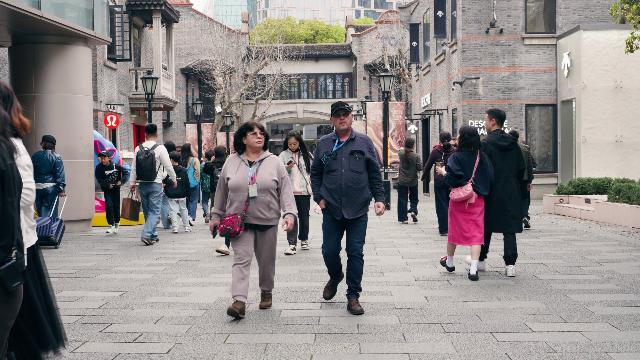person: (209, 121, 298, 319), (310, 101, 386, 315), (465, 108, 533, 277), (434, 124, 495, 281), (129, 123, 178, 246), (277, 130, 315, 256), (420, 131, 458, 236), (31, 134, 66, 218), (509, 130, 538, 230), (94, 151, 128, 234), (396, 138, 424, 224), (163, 151, 192, 234), (180, 138, 209, 220), (199, 150, 215, 224), (281, 129, 284, 135)
